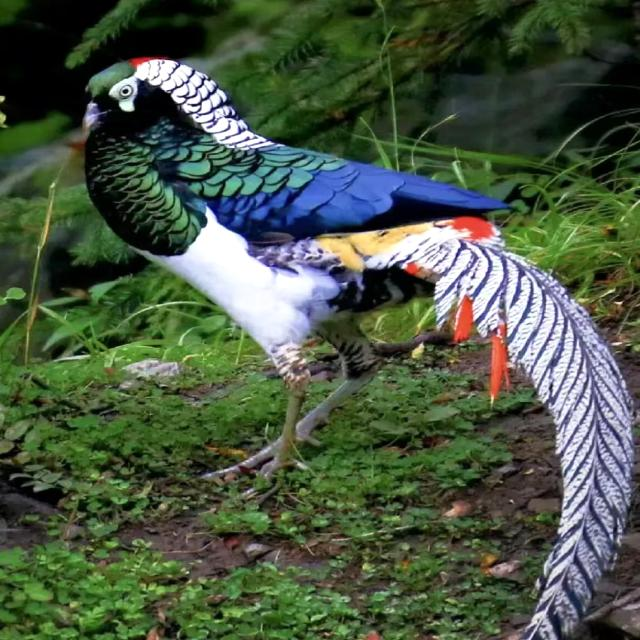Chrysolophus amherstiae: (414, 241, 635, 640)
